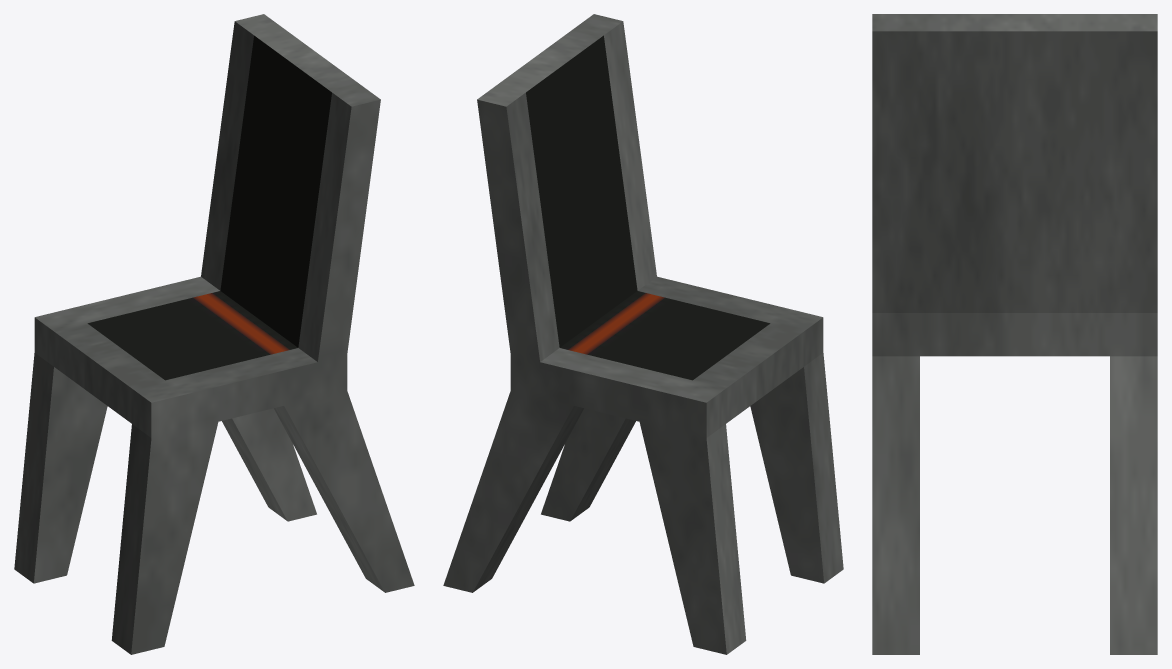
The model's file is Chair.glb.
3 renders of one model, left to right at view 1: azimuth 30°, elevation 25°; view 2: azimuth 150°, elevation 25°; view 3: azimuth 270°, elevation 25°, orthographic. The views are drawn at different scales.
Visible parts, largest first — view 1: Chair-col; view 2: Chair-col; view 3: Chair-col.
Part boxes in pixels (box(x1,y1,x2,y2)): Chair-col: box(14, 14, 414, 654); Chair-col: box(443, 14, 843, 654); Chair-col: box(872, 14, 1157, 654).
Size of the model in its own units: 0.84 by 1.4 by 0.6.
1 material, 1 textured.
